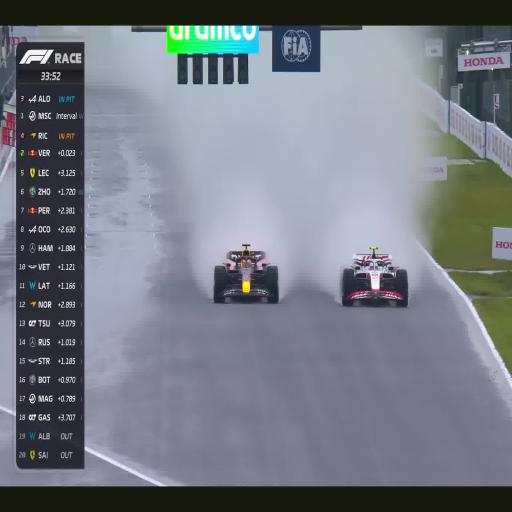f1_car: (340, 247, 408, 306), (214, 243, 278, 302)
